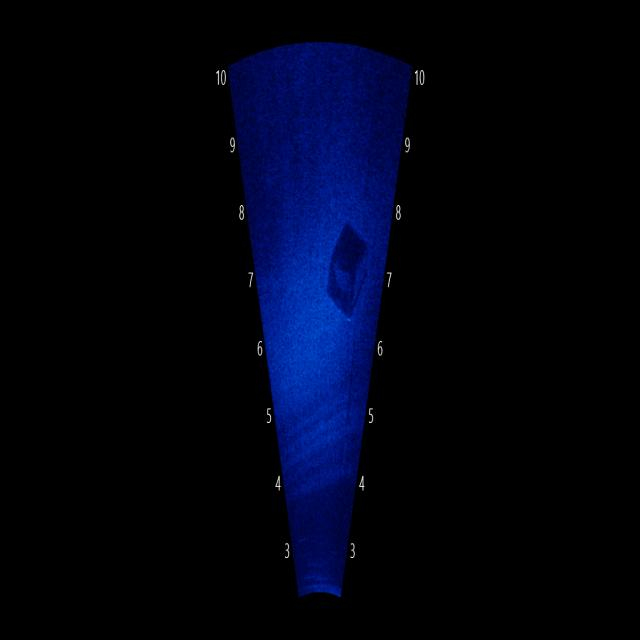square: (320, 180, 366, 342)
